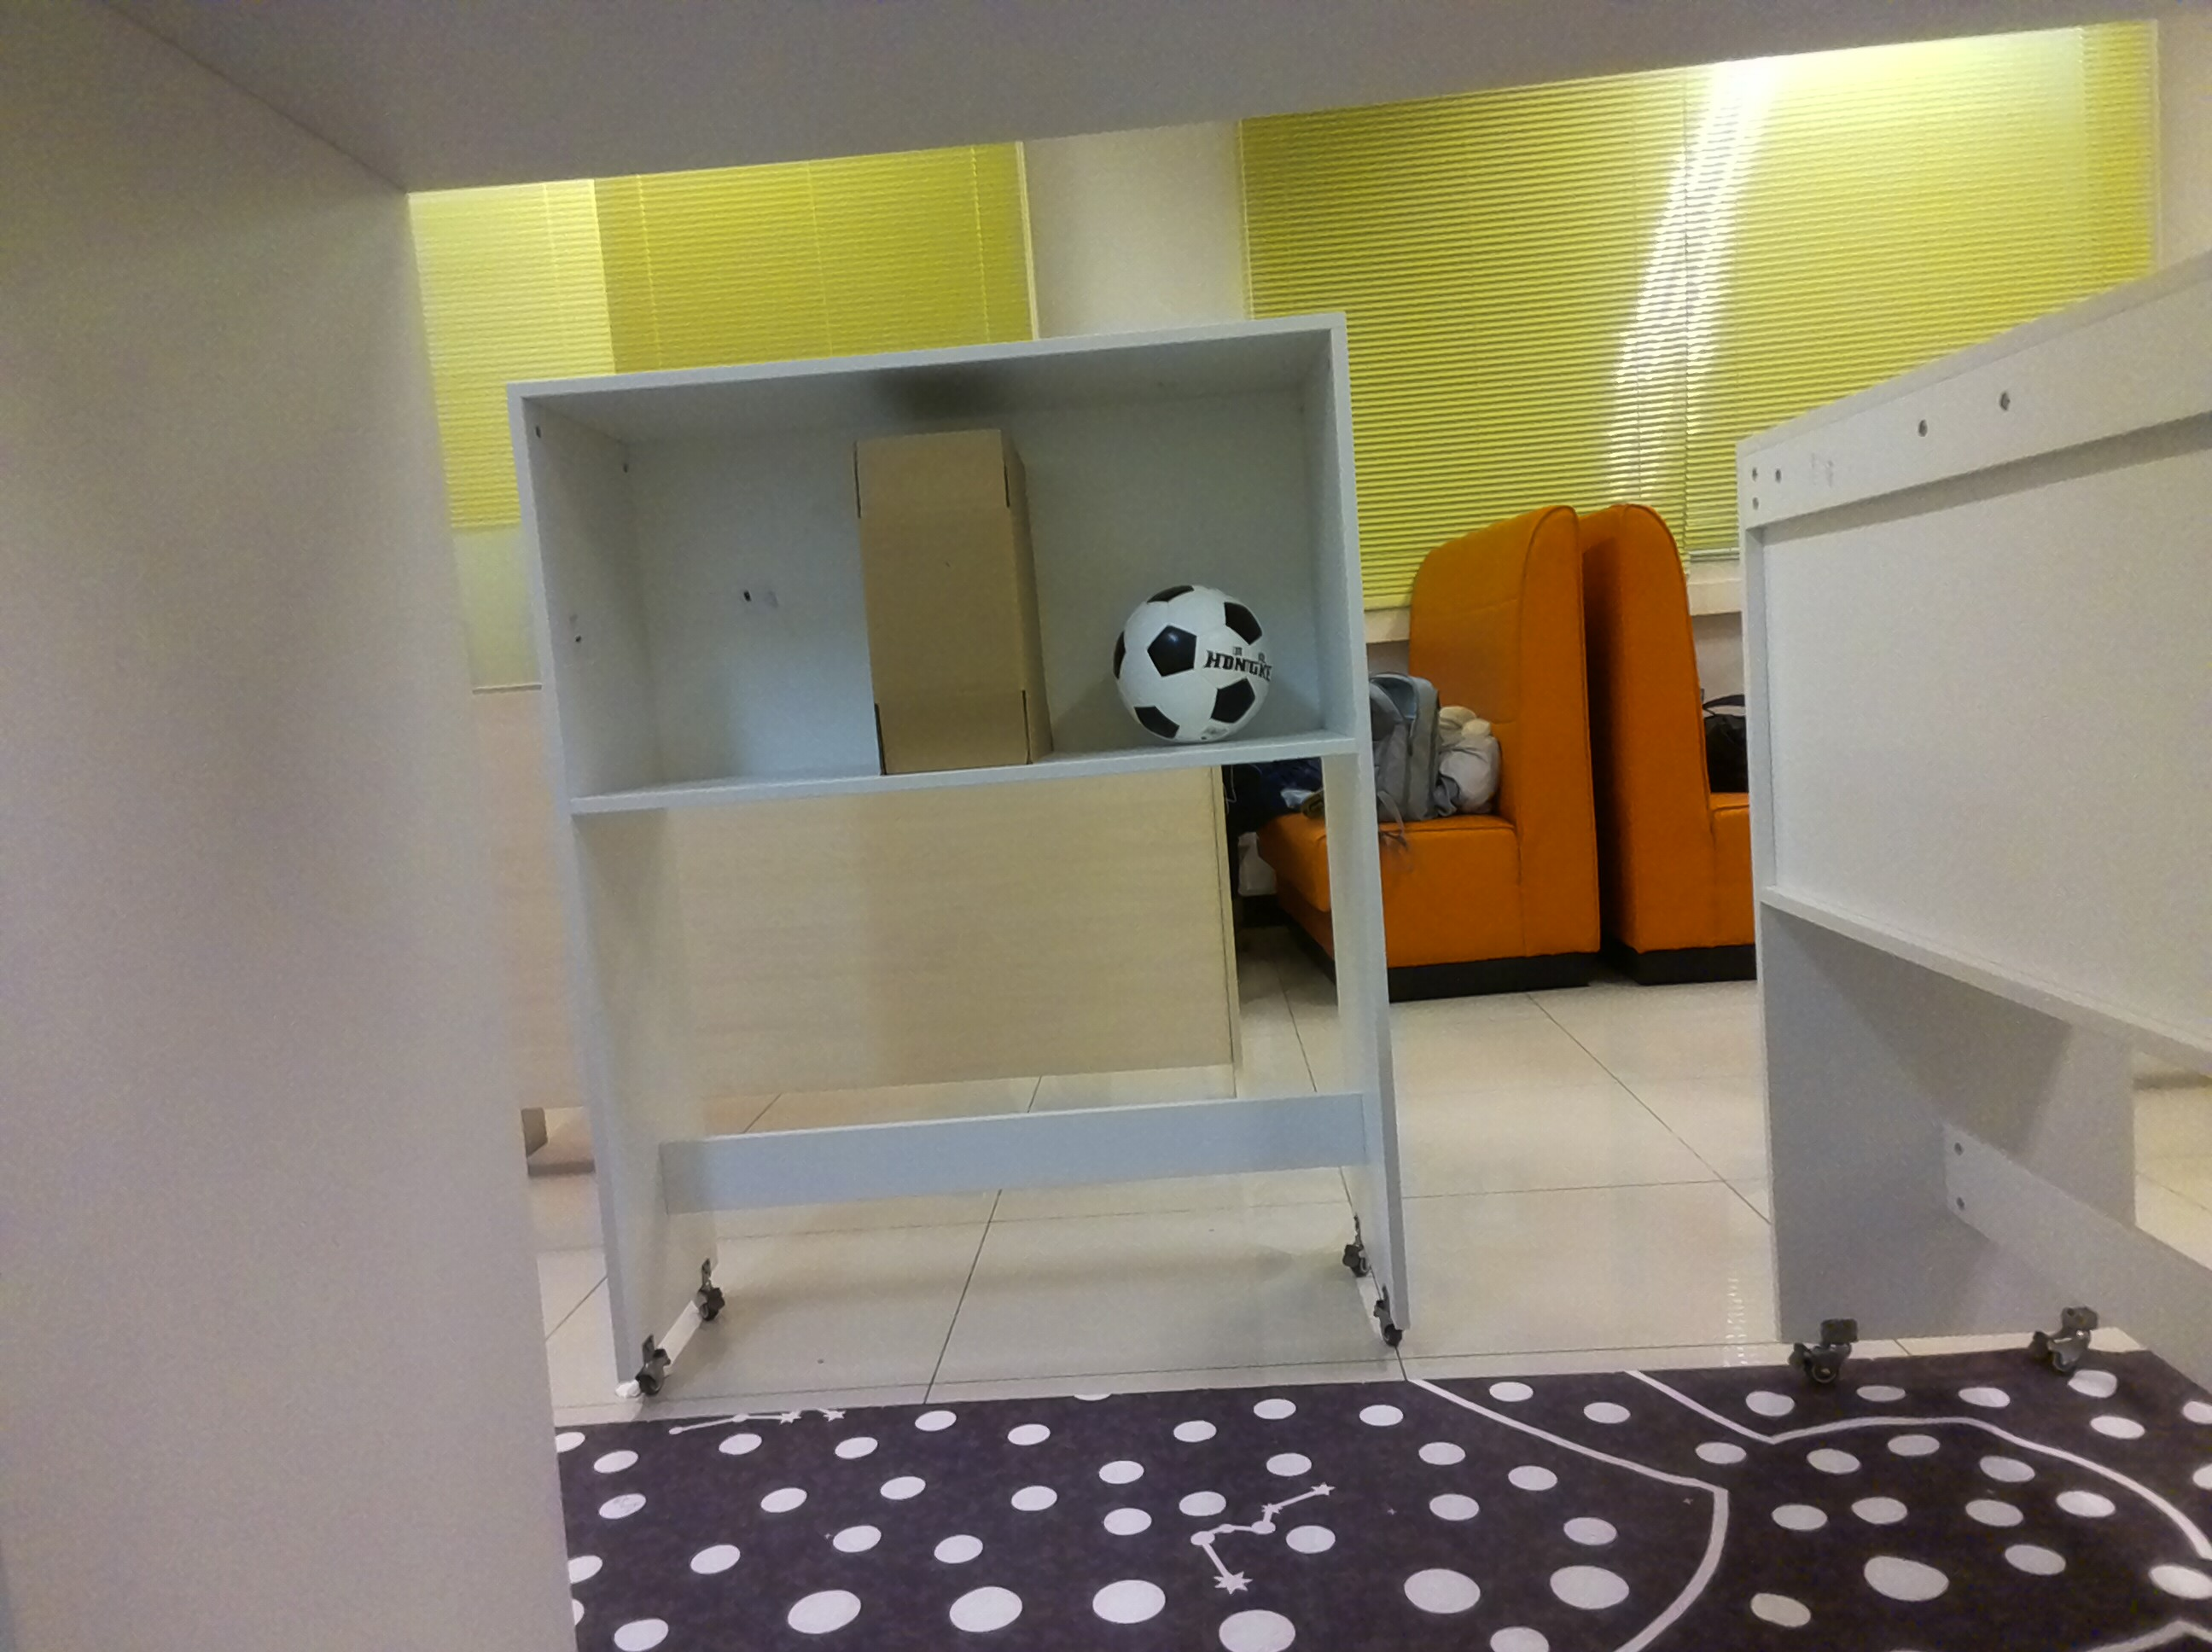football: (1107, 576, 1277, 748)
